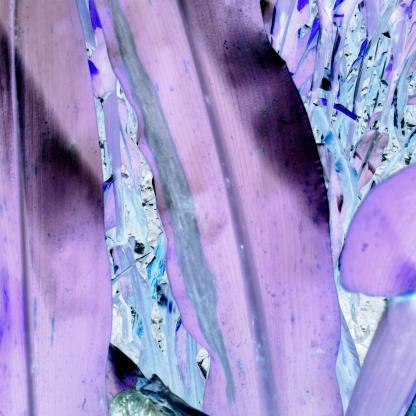corn leaf blight: (0, 70, 414, 312)
